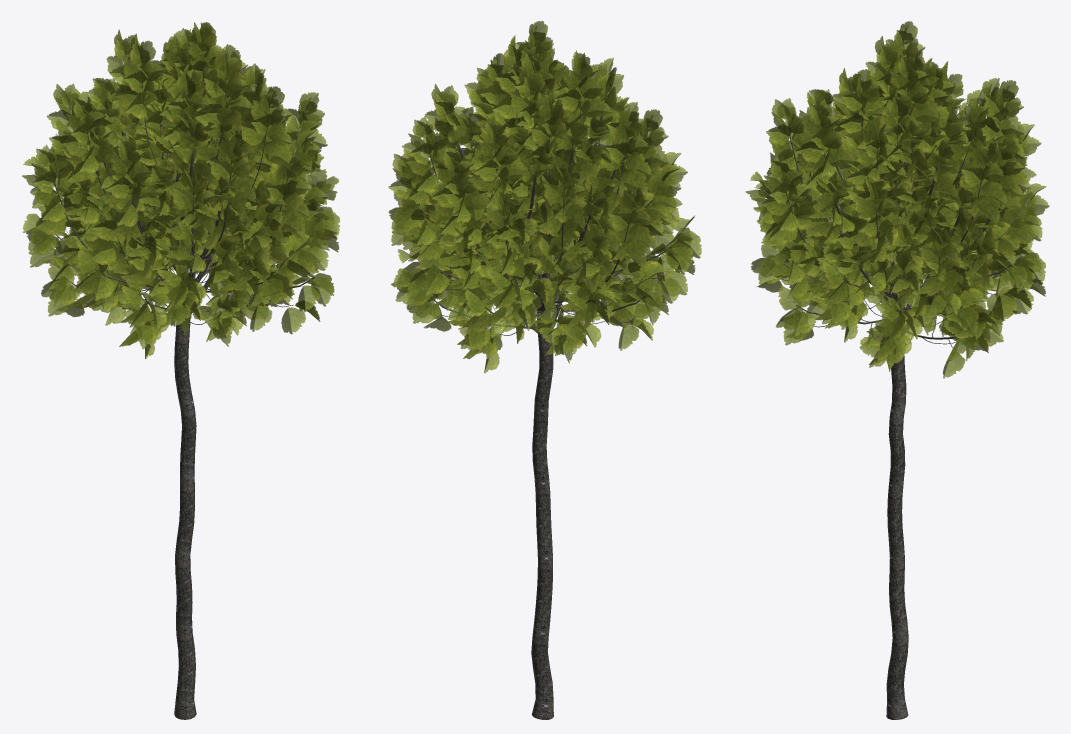
The picture shows the model from 3 angles, left to right: view 1: azimuth 30°, elevation 25°; view 2: azimuth 150°, elevation 25°; view 3: azimuth 270°, elevation 25°; orthographic projection.
Visible parts, largest first — view 1: LS06_02; view 2: LS06_02; view 3: LS06_02.
Part boxes in pixels (x1=…): LS06_02: x1=22, y1=22, x2=340, y2=719; LS06_02: x1=388, y1=21, x2=701, y2=719; LS06_02: x1=745, y1=21, x2=1049, y2=719.
Bounding box in the file's own units: 1.24 × 2.89 × 1.2.
